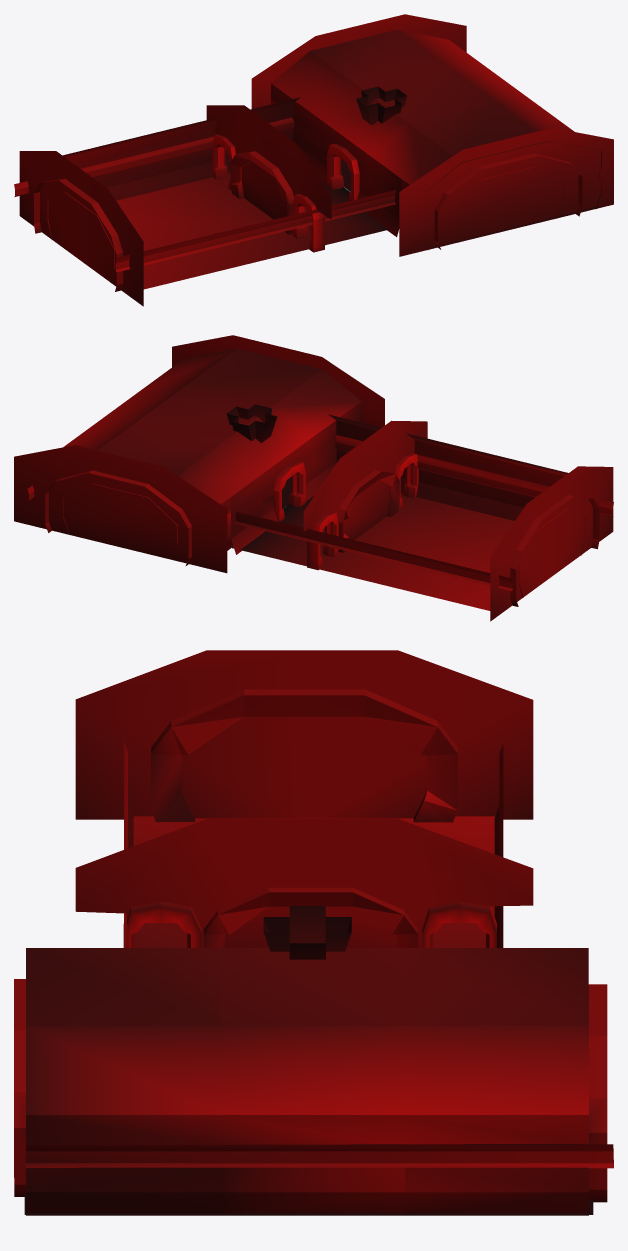
The model's file is mp_bunker_01_col.dae.
The picture shows the model from 3 angles, top to bottom: view 1: azimuth 30°, elevation 25°; view 2: azimuth 150°, elevation 25°; view 3: azimuth 270°, elevation 25°; orthographic projection. The views are drawn at different scales.
Parts seen in each view (by area): view 1: col; view 2: col; view 3: col.
Part boxes in pixels (bbox=[...]): col: bbox=[14, 14, 613, 306]; col: bbox=[14, 335, 613, 621]; col: bbox=[14, 650, 613, 1215].
Size of the model in its own units: 9130 by 5389 by 1679.
